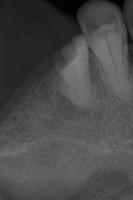Furcation Involvement: (54, 89, 94, 122)
